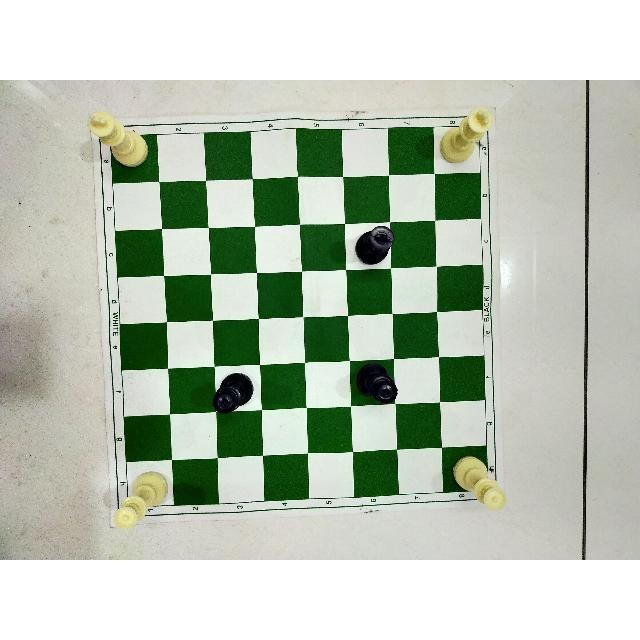black-king: (351, 226, 394, 265)
black-queen: (354, 359, 400, 404), (211, 371, 254, 417)
white-king: (83, 107, 154, 168), (438, 105, 496, 165)
white-queen: (110, 469, 172, 530), (453, 454, 506, 514)
